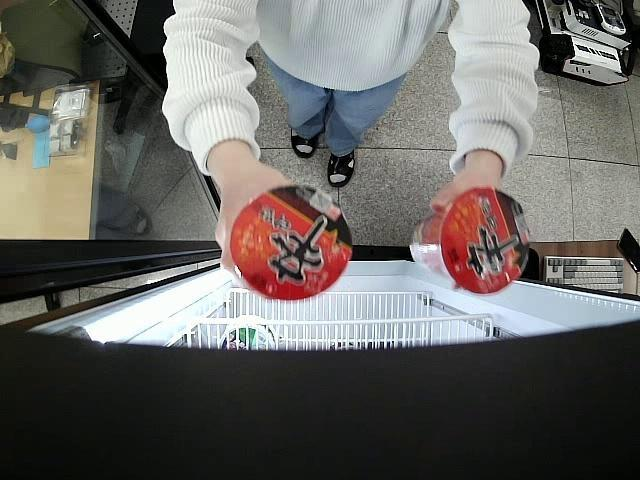02_shinRamen_S: (230, 184, 351, 302), (406, 188, 528, 295)
